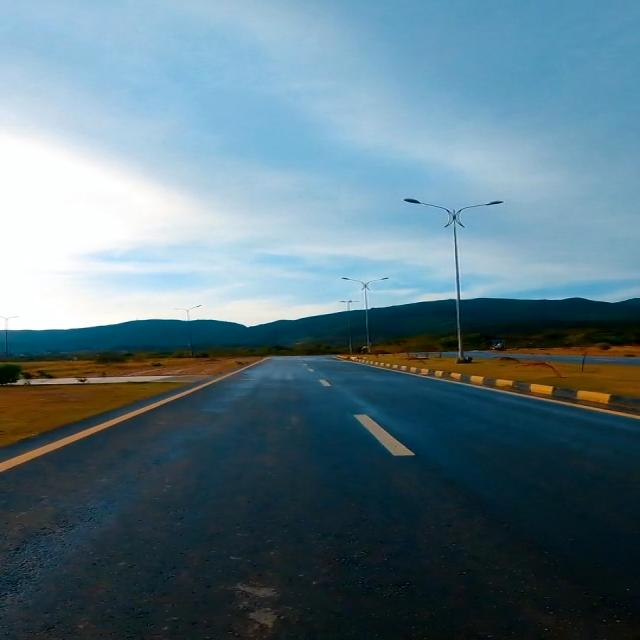lane: (0, 357, 269, 471), (353, 414, 414, 455)
road: (2, 357, 638, 639)
